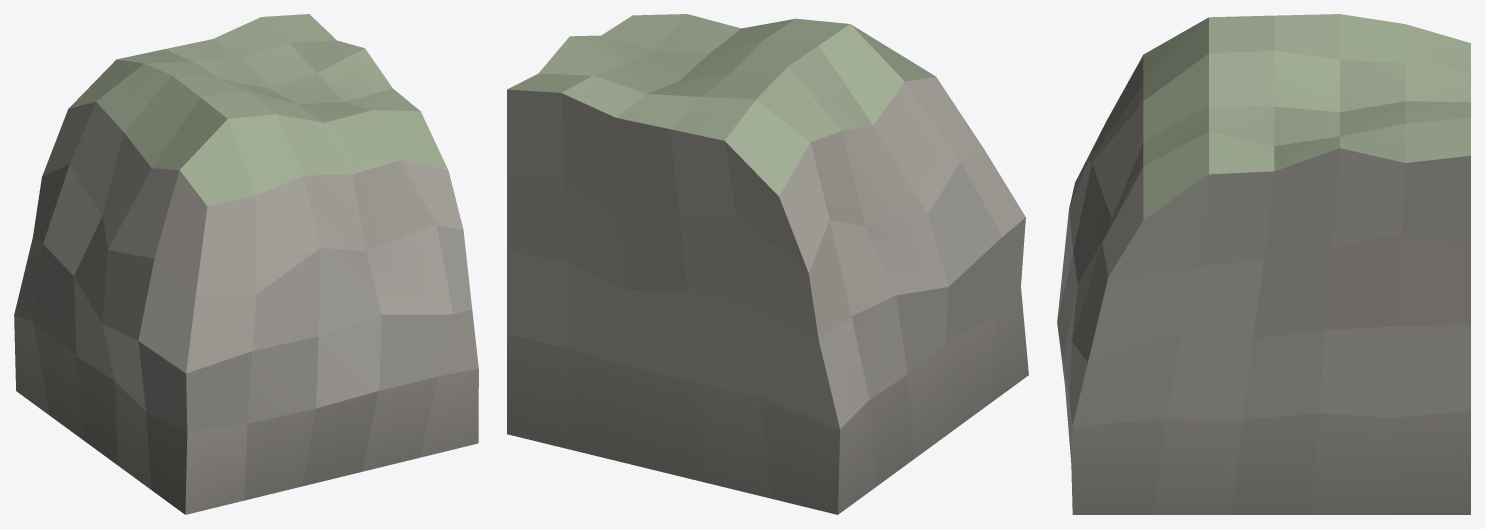
The model's file is roca_esquina_3.glb.
3 renders of one model, left to right at view 1: azimuth 30°, elevation 25°; view 2: azimuth 150°, elevation 25°; view 3: azimuth 270°, elevation 25°, orthographic. The views are drawn at different scales.
Parts seen in each view (by area): view 1: propforge-cuartos-roca_esquina; view 2: propforge-cuartos-roca_esquina; view 3: propforge-cuartos-roca_esquina.
Part boxes in pixels (box(x1,y1,x2,y2)): propforge-cuartos-roca_esquina: box(14, 14, 478, 514); propforge-cuartos-roca_esquina: box(507, 14, 1028, 514); propforge-cuartos-roca_esquina: box(1057, 14, 1470, 514).
Size of the model in its own units: 0.9359 by 0.9733 by 0.9352.
